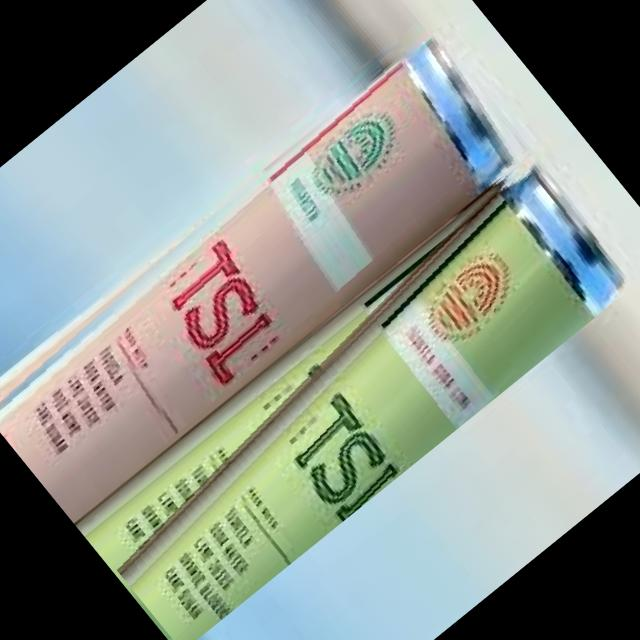Cans: (73, 135, 640, 640), (0, 13, 543, 524)
